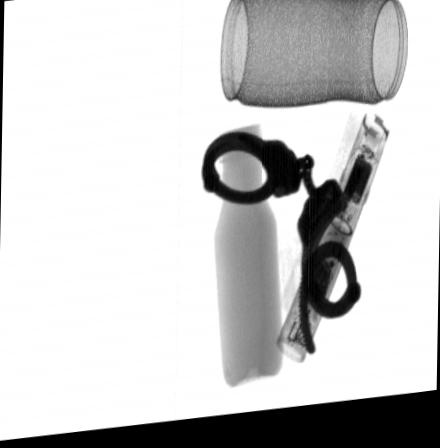Baton: (276, 120, 390, 371)
HandCuffs: (200, 135, 362, 364)
